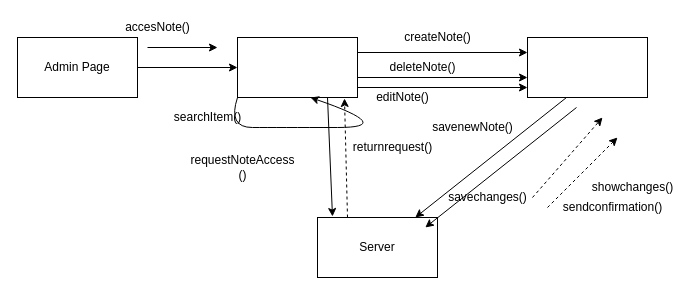
This 700x295 diagram has some shape labels left out. Here are the shapes that lost their labels. From the top down, the centre of each, then its label:
(297,67): Staff
(587,67): Admin Notes
